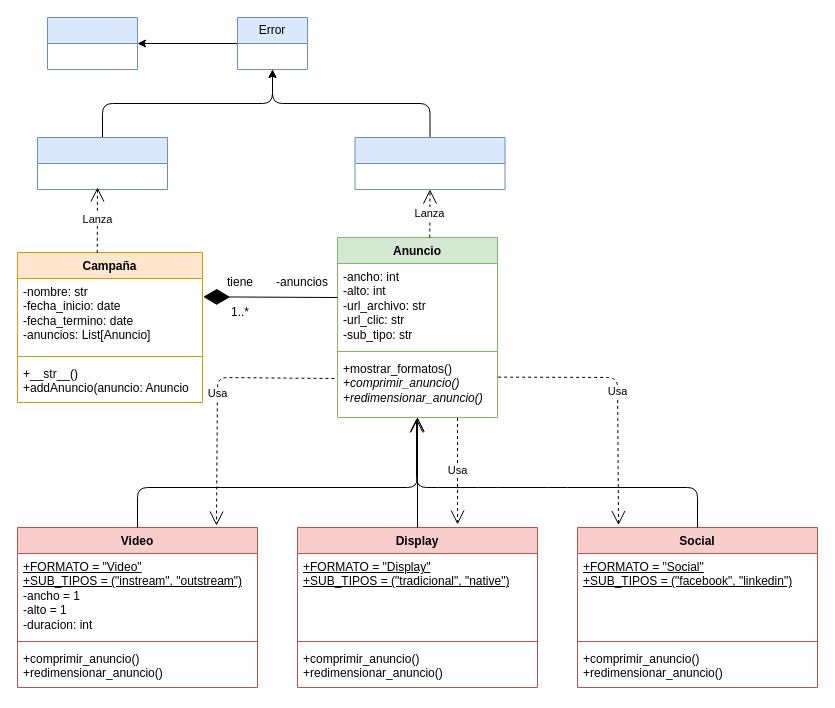
This 835x708 diagram has some shape labels left out. Each missing label, with the box of its shape:
Exception: (46, 16, 138, 70)
LargoExcedidoError: (36, 136, 168, 190)
subTipoInvalidoError: (354, 136, 505, 190)
